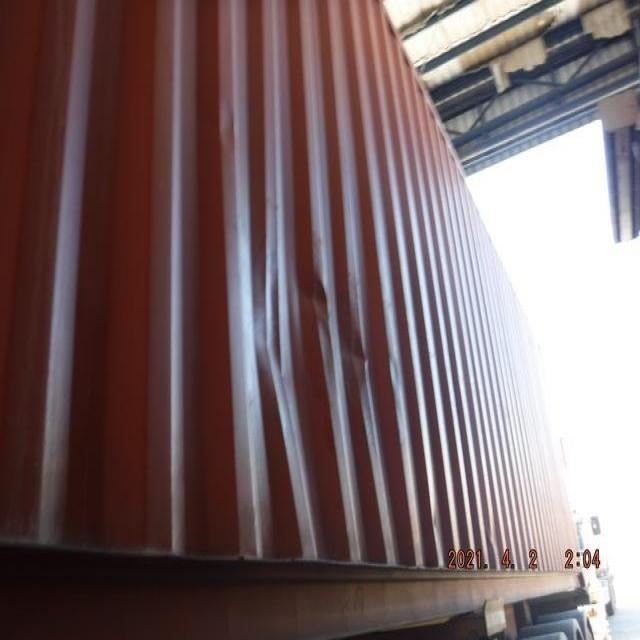Dent: (223, 244, 401, 443)
